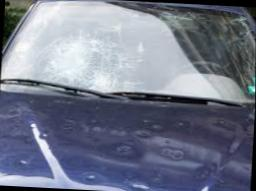Windshield: (27, 24, 134, 95)
